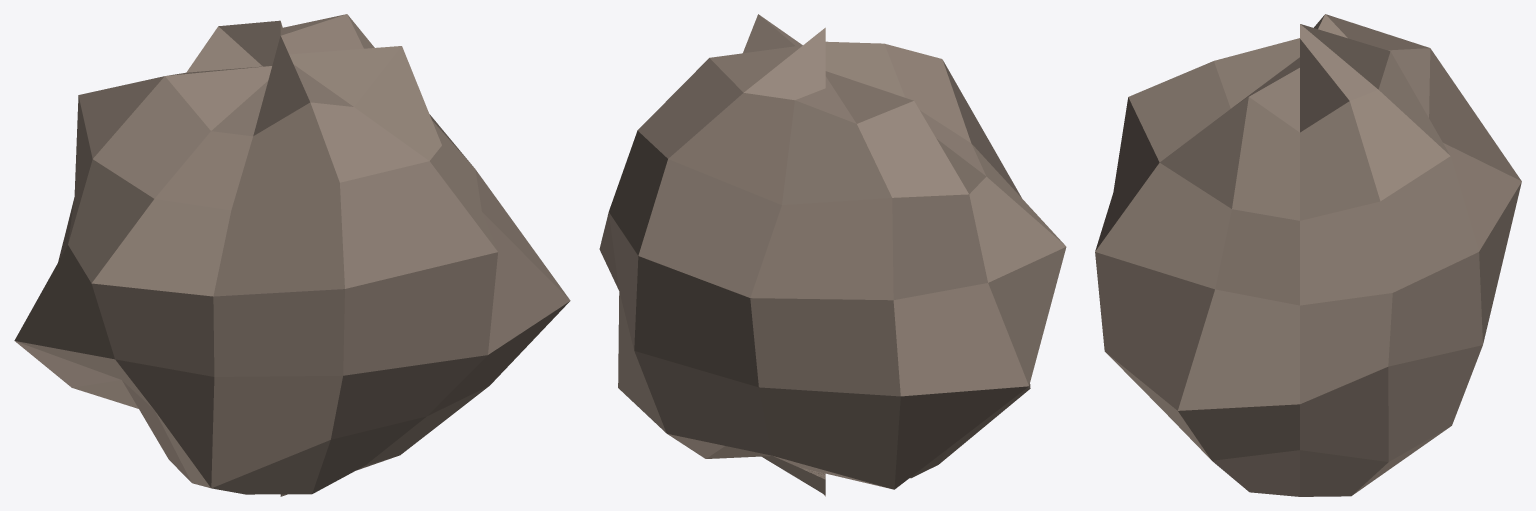
Rendered from Rock06.glb.
The picture shows the model from 3 angles, left to right: view 1: azimuth 30°, elevation 25°; view 2: azimuth 150°, elevation 25°; view 3: azimuth 270°, elevation 25°; orthographic projection. The views are drawn at different scales.
Visible parts, largest first — view 1: Rock06Hull; view 2: Rock06Hull; view 3: Rock06Hull.
Boxes of the visible parts, left/top/right/bottom form: Rock06Hull: left=14, top=14, right=570, bottom=496; Rock06Hull: left=599, top=14, right=1066, bottom=496; Rock06Hull: left=1095, top=14, right=1521, bottom=496.
Bounding box in the file's own units: 1.93 × 1.89 × 1.59.
